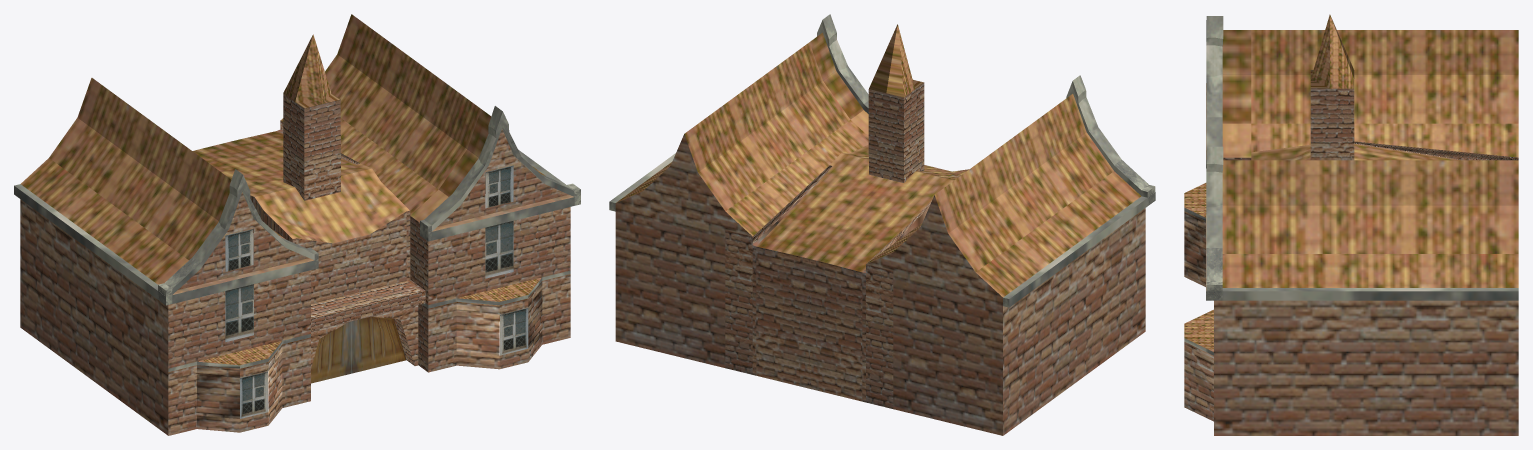
File: mansion horror.fbx
3 views of the same model, side by side, from view 1: azimuth 30°, elevation 25°; view 2: azimuth 150°, elevation 25°; view 3: azimuth 270°, elevation 25° (orthographic). The views are drawn at different scales.
Visible parts, largest first — view 1: Cube; view 2: Cube; view 3: Cube.
Boxes of the visible parts, x1=… form: Cube: x1=14, y1=14, x2=580, y2=435; Cube: x1=609, y1=14, x2=1155, y2=435; Cube: x1=1184, y1=14, x2=1518, y2=435.
Size of the model in its own units: 4612 by 3310 by 3127.
